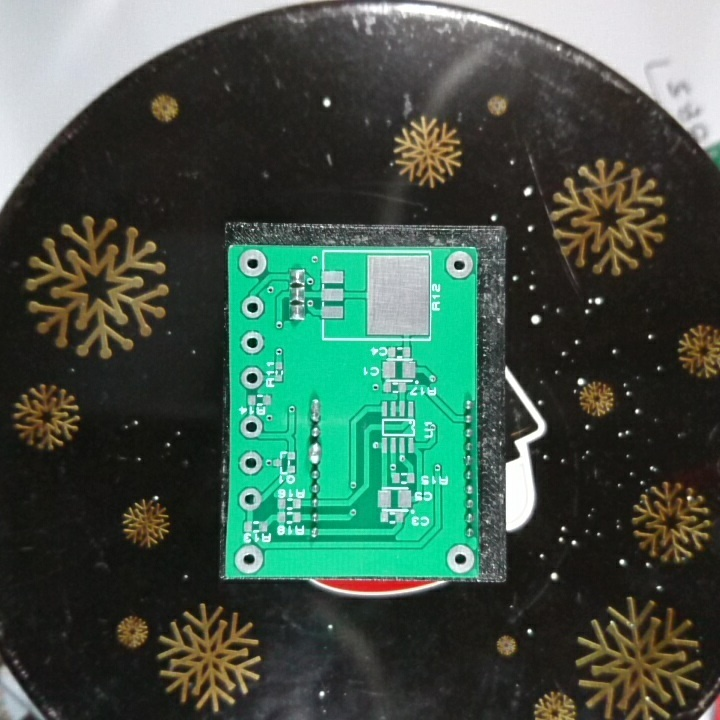F: (233, 542, 267, 575), (443, 543, 479, 574), (442, 248, 476, 280), (236, 246, 268, 278), (237, 364, 268, 392), (236, 450, 265, 478), (238, 329, 268, 356), (237, 487, 265, 514), (237, 414, 265, 440), (240, 294, 265, 319)
P: (307, 440, 325, 465), (307, 396, 323, 423)
